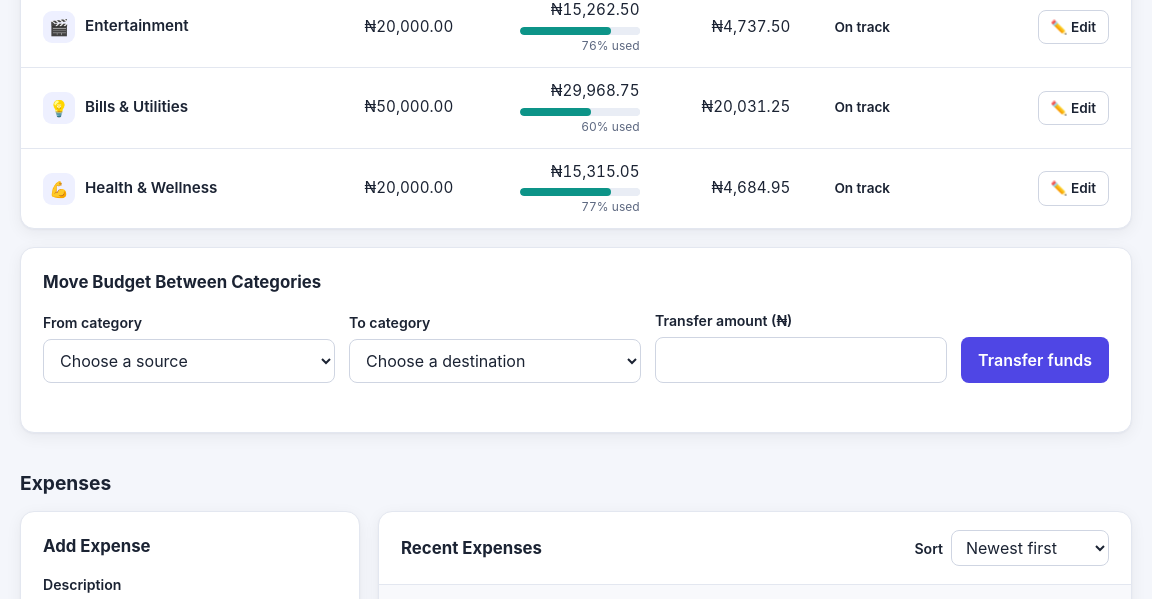
App › category budgets › transfers only unspent budget and updates both category budgets
(page scrolled)
Select "Transportation" in the dropdown labelled "From category" at (189, 361), box x1=43 y1=339 x2=335 y2=383
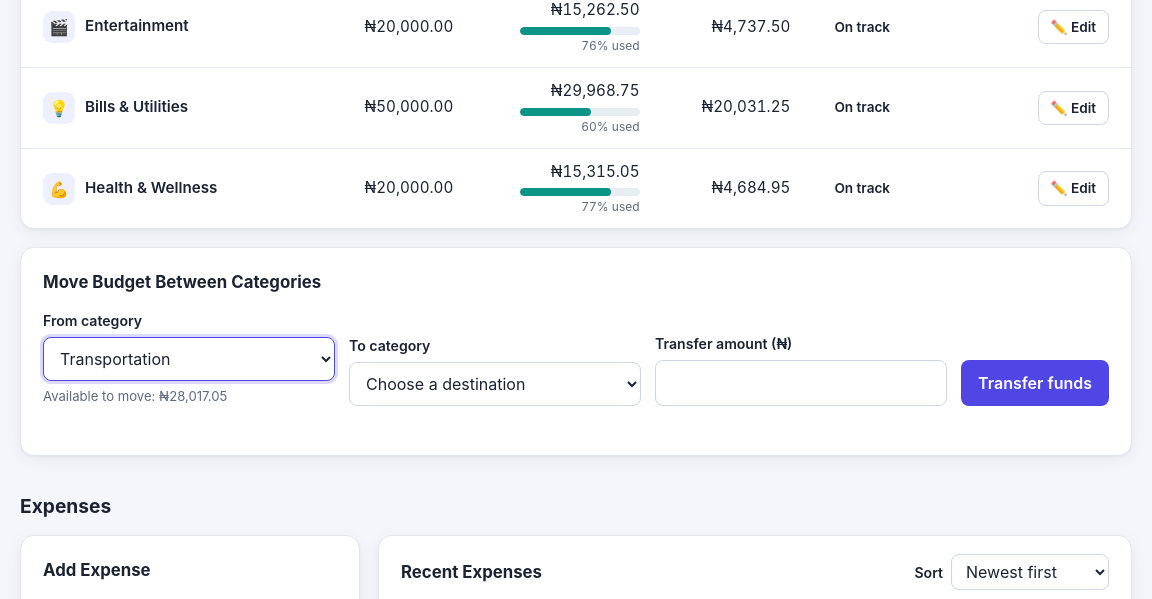
Expected: the text "Available to move: ₦28,017.05" is shown, x1=43 y1=388 x2=227 y2=404
Select "Food & Dining" in the dropdown labelled "To category" at (495, 384), box x1=349 y1=362 x2=641 y2=406
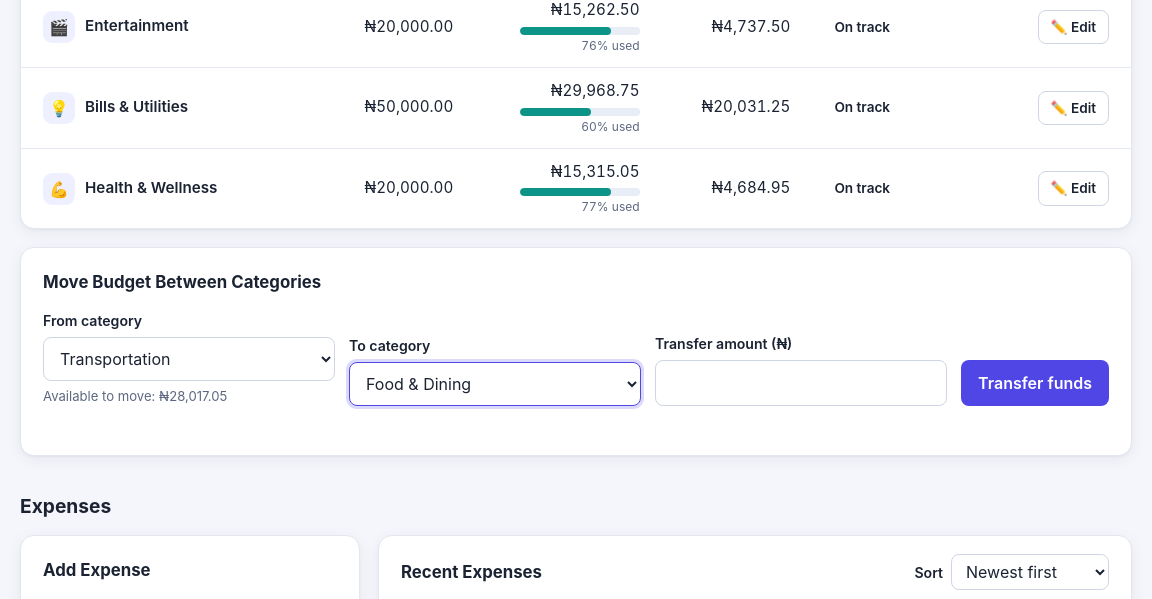
Type "1000" into the number field labelled "Transfer amount (₦)" at (801, 383), box x1=655 y1=360 x2=947 y2=406
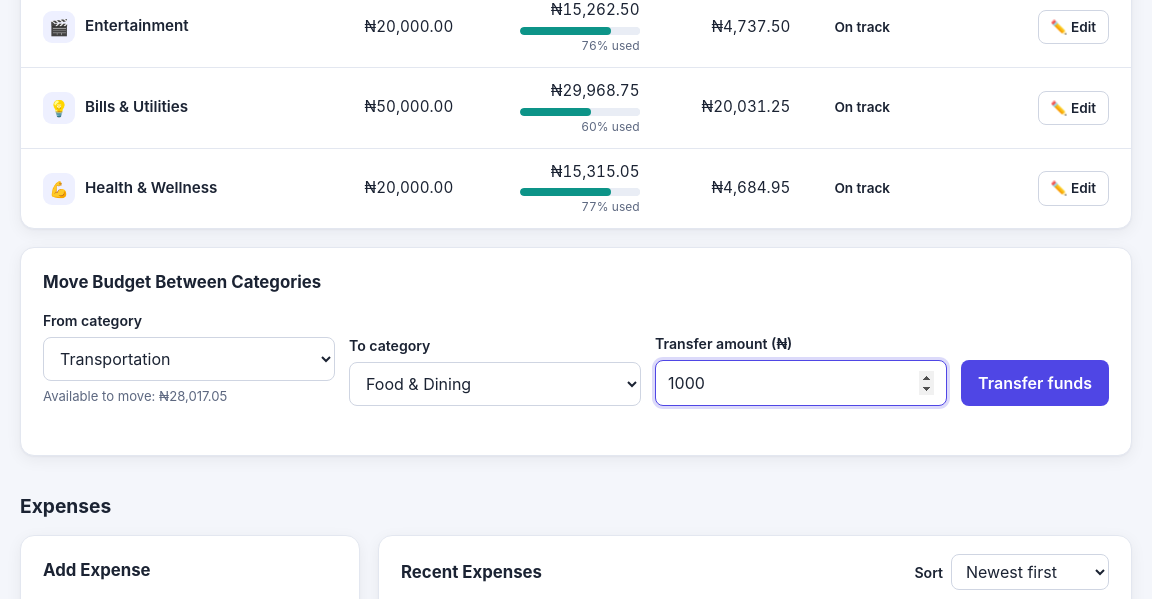
Click the button "Transfer funds" at (1035, 383), box x1=961 y1=360 x2=1109 y2=406
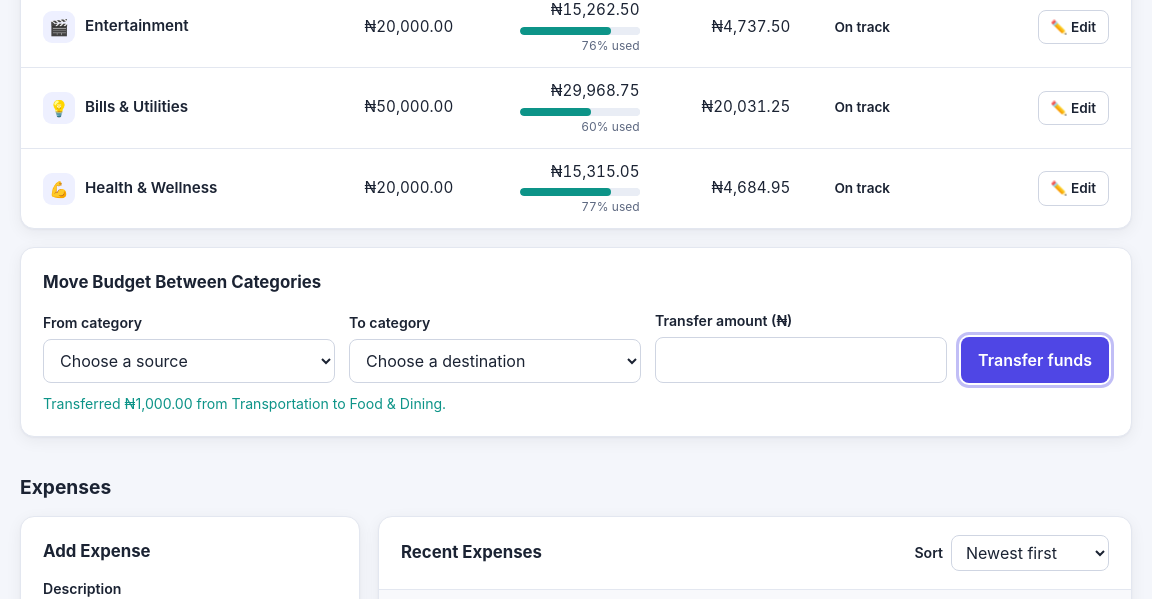
Expected: the text "Transferred ₦1,000.00 from Transportation to Food & Dining." is shown, x1=43 y1=395 x2=446 y2=412
